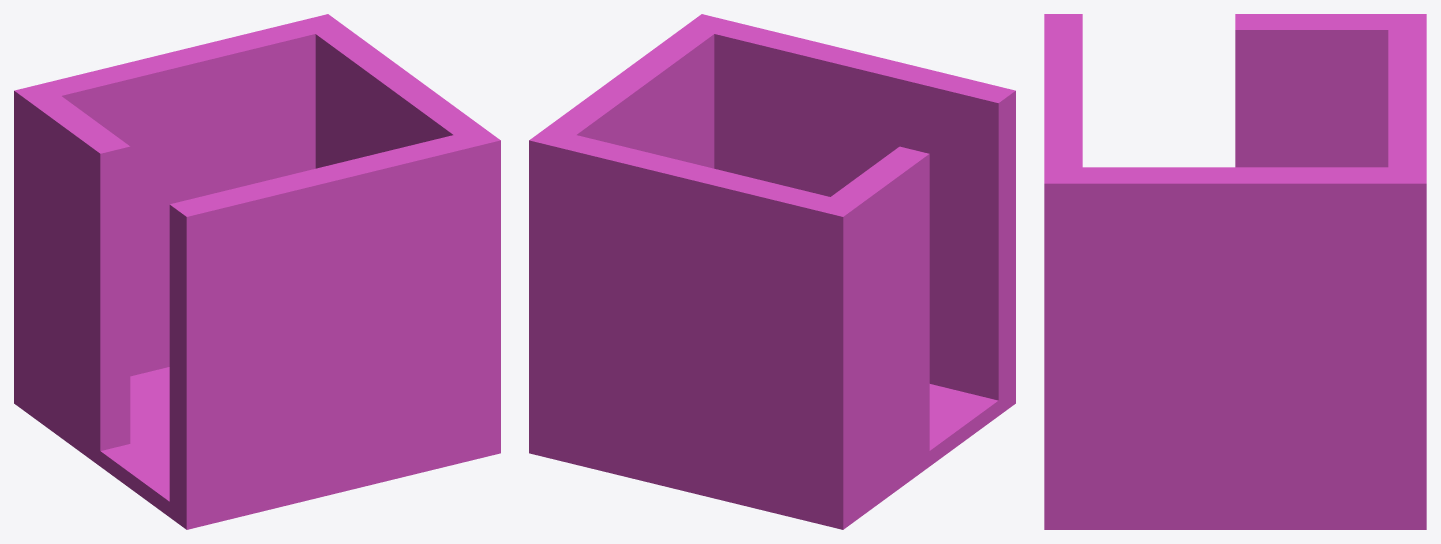
File: test-house.glb
3 views of the same model, side by side, from view 1: azimuth 30°, elevation 25°; view 2: azimuth 150°, elevation 25°; view 3: azimuth 270°, elevation 25° (orthographic). The views are drawn at different scales.
Parts seen in each view (by area): view 1: Building; view 2: Building; view 3: Building.
Part boxes in pixels (box(x1,y1,x2,y2)): Building: box(14, 14, 500, 529); Building: box(529, 14, 1015, 529); Building: box(1044, 14, 1426, 529).
Size of what is drawn, in the model's own units: 2.1 by 2 by 2.
